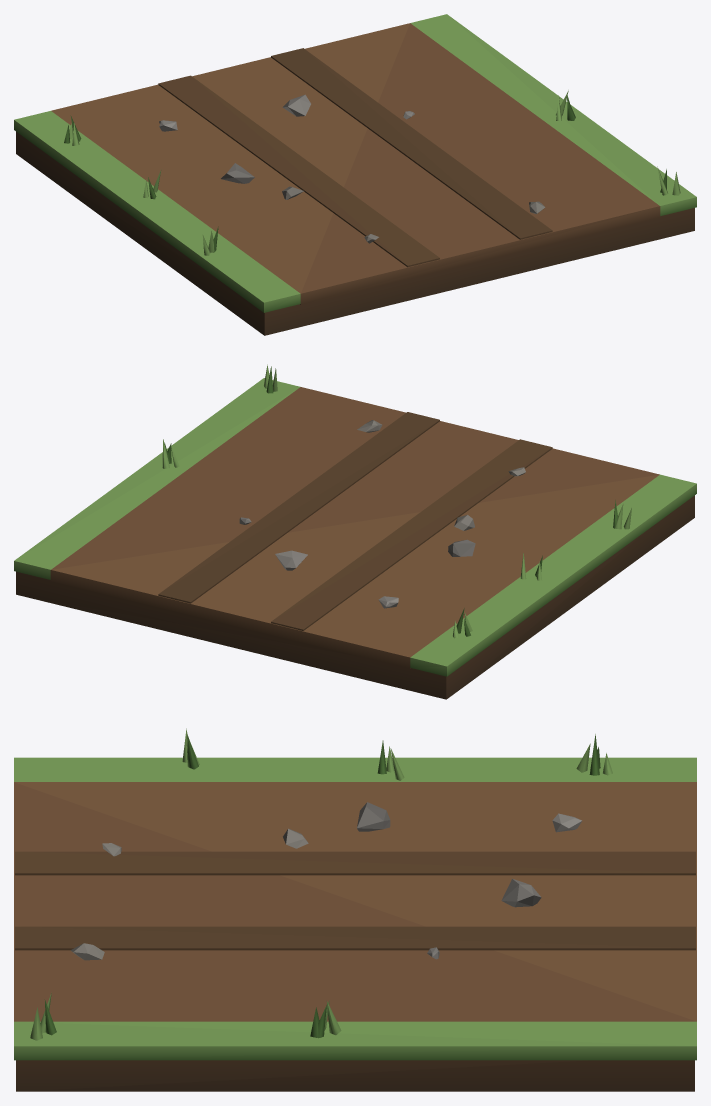
Rendered from dirt-path-ground.glb.
3 renders of one model, top to bottom at view 1: azimuth 30°, elevation 25°; view 2: azimuth 150°, elevation 25°; view 3: azimuth 270°, elevation 25°, orthographic. The views are drawn at different scales.
Parts seen in each view (by area): view 1: dirt_path_ground; view 2: dirt_path_ground; view 3: dirt_path_ground.
Part boxes in pixels (box(x1,y1,x2,y2)): dirt_path_ground: box(14, 14, 696, 335); dirt_path_ground: box(14, 364, 696, 699); dirt_path_ground: box(14, 728, 696, 1091).
Bounding box in the file's own units: 4 × 0.5415 × 4.
